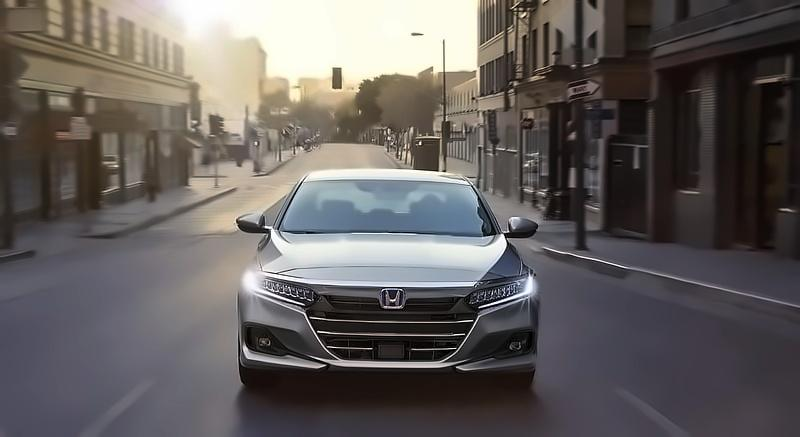Car hood: (260, 232, 521, 288)
Front bumper: (234, 287, 540, 382)
Headlight - -L-: (464, 274, 535, 310)
Headlight - -R-: (252, 272, 322, 314)
Side mirror - -L-: (503, 217, 538, 241)
Side mirror - -R-: (236, 211, 272, 237)
